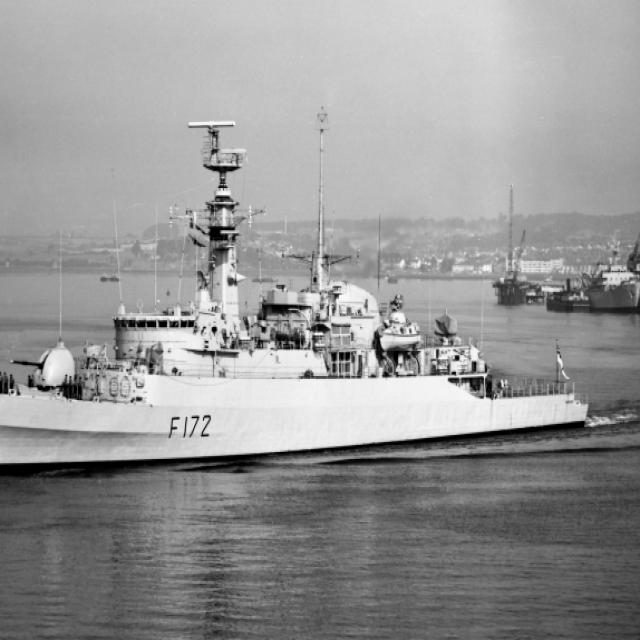Fragata: (1, 117, 596, 478)
